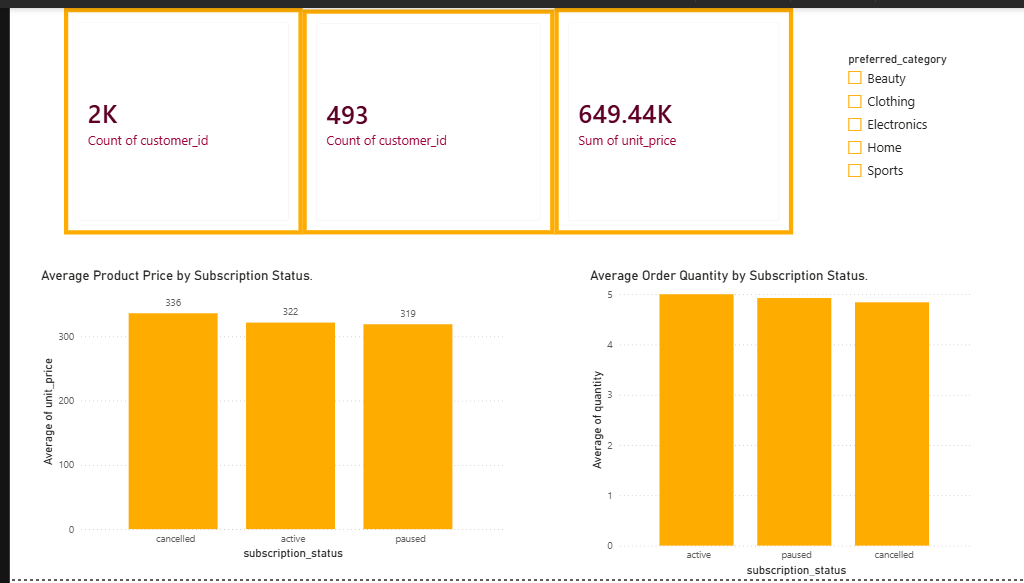

The dashboard page shown, as its layout file describes it:
{"tool":"powerbi","page":{"name":"Page 1","canvas":[1280,720],"ordinal":0},"visuals":[{"type":"cardVisual","fields":{"Data":["Count(E Commerce Customer Insights and Churn Dataset.customer_id)"]},"box":[68,0,300.5,285.4],"z":0},{"type":"cardVisual","fields":{"Data":["Sum(E Commerce Customer Insights and Churn Dataset.unit_price)"]},"box":[686,0,300.5,285.4],"z":1000},{"type":"cardVisual","fields":{"Data":["CountNonNull(E Commerce Customer Insights and Churn Dataset.customer_id)"]},"box":[368.5,1.9,317.5,283.5],"z":2000},{"type":"clusteredColumnChart","title":"Average Product Price by Subscription Status.","fields":{"Category":["E Commerce Customer Insights and Churn Dataset.subscription_status"],"Y":["Avg(E Commerce Customer Insights and Churn Dataset.unit_price)"]},"box":[34,326.9,593.4,372.3],"z":3000},{"type":"clusteredColumnChart","title":"Average Order Quantity by Subscription Status.","fields":{"Category":["E Commerce Customer Insights and Churn Dataset.subscription_status"],"Y":["Avg(E Commerce Customer Insights and Churn Dataset.quantity)"]},"box":[725.7,326.9,491.3,393.1],"z":4000},{"type":"slicer","fields":{"Values":["E Commerce Customer Insights and Churn Dataset.preferred_category"]},"box":[1043.2,51,236.2,196.5],"z":4001}]}

Visuals, with their boxes in screenshot pixels (x1, y1, x2, y2), scaled from the page's 1280x720 canvas onto the 1024x583 screenshot:
cardVisual - Count(E Commerce Customer Insights and Churn Dataset.customer_id): detection(54, 0, 295, 231)
cardVisual - Sum(E Commerce Customer Insights and Churn Dataset.unit_price): detection(549, 0, 789, 231)
cardVisual - CountNonNull(E Commerce Customer Insights and Churn Dataset.customer_id): detection(295, 2, 549, 231)
"Average Product Price by Subscription Status." clusteredColumnChart: detection(27, 265, 502, 566)
"Average Order Quantity by Subscription Status." clusteredColumnChart: detection(581, 265, 974, 582)
slicer - E Commerce Customer Insights and Churn Dataset.preferred_category: detection(835, 41, 1023, 200)
